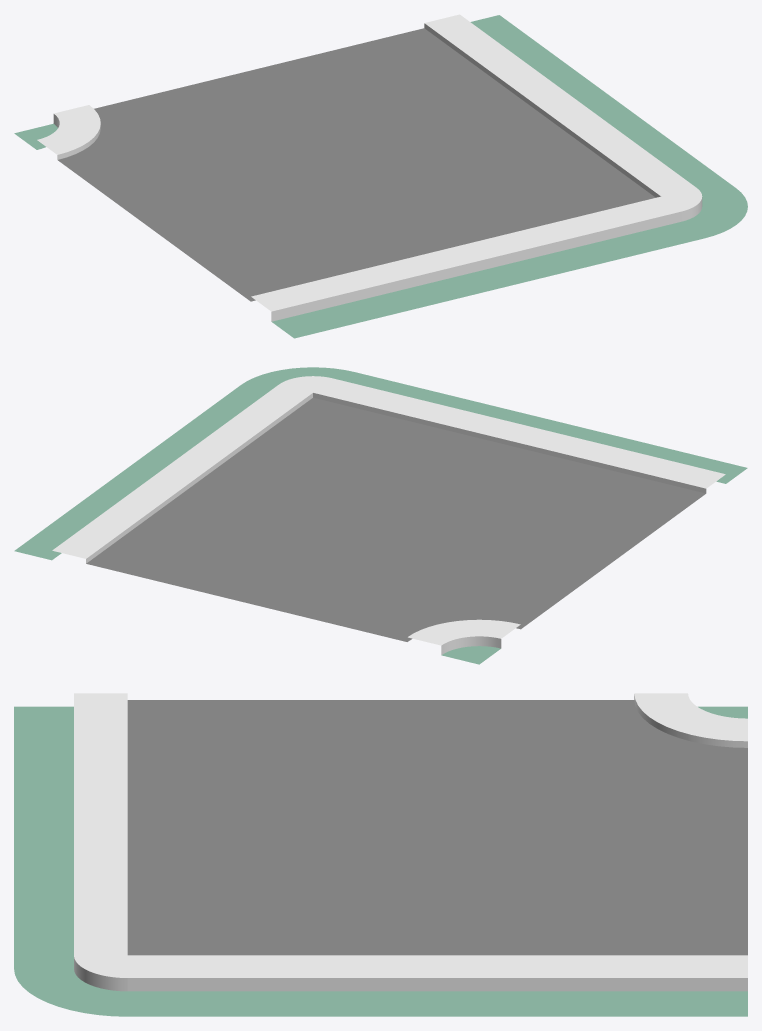
File: roadCornerSmallSquare.gltf
The picture shows the model from 3 angles, top to bottom: view 1: azimuth 30°, elevation 25°; view 2: azimuth 150°, elevation 25°; view 3: azimuth 270°, elevation 25°; orthographic projection. The views are drawn at different scales.
Visible parts, largest first — view 1: roadCornerSmallSquare; view 2: roadCornerSmallSquare; view 3: roadCornerSmallSquare.
Boxes of the visible parts, <box> form: roadCornerSmallSquare: <box>14,14,747,338</box>; roadCornerSmallSquare: <box>14,367,747,664</box>; roadCornerSmallSquare: <box>14,693,747,1016</box>.
Bounding box in the file's own units: 10 × 0.2 × 10.
